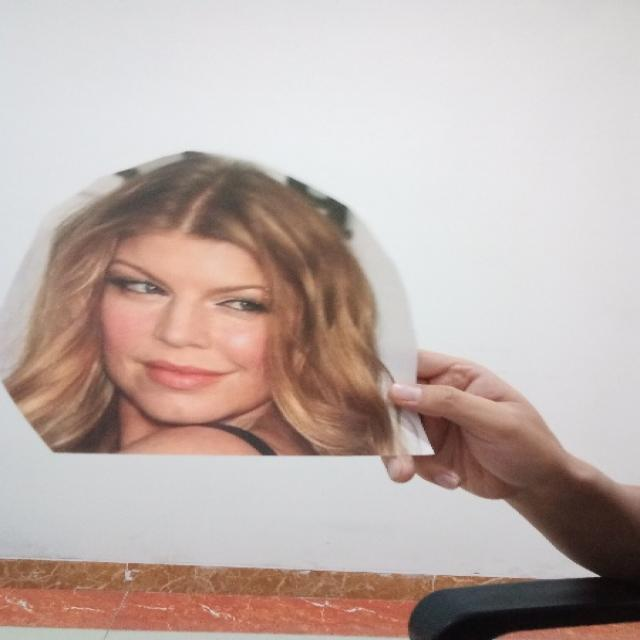photo: (0, 142, 457, 467)
